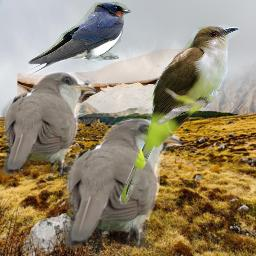Cuckoo: (118, 24, 240, 204), (62, 118, 182, 249), (0, 71, 96, 176)
Swallow: (17, 48, 209, 117), (15, 2, 131, 83)
